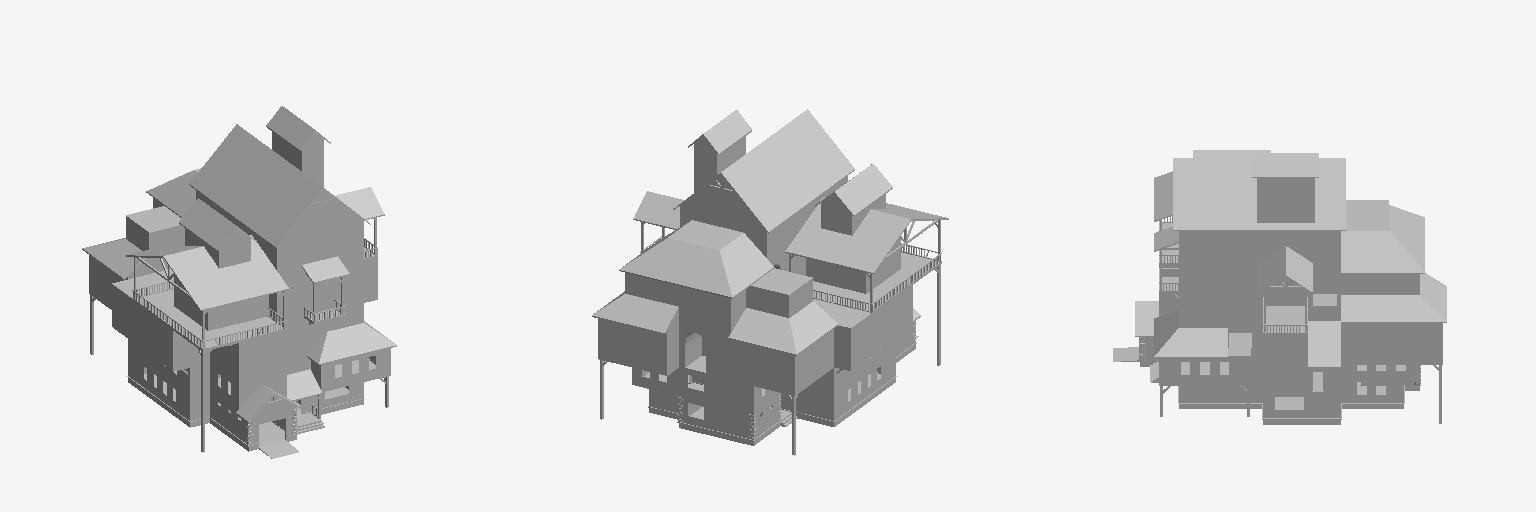
The model's file is Neighbor's House (Alpha 1).obj.
The picture shows the model from 3 angles: view 1: azimuth 30°, elevation 25°; view 2: azimuth 150°, elevation 25°; view 3: azimuth 270°, elevation 25°; orthographic projection.
Parts seen in each view (by area): view 1: floor_3, floor_1, floor_2; view 2: floor_3, floor_1, floor_2; view 3: floor_3, floor_1, floor_2.
Part boxes in pixels (bbox=[...]): floor_3: bbox=[82, 106, 396, 383]; floor_1: bbox=[90, 295, 388, 458]; floor_2: bbox=[128, 339, 390, 421]; floor_3: bbox=[592, 109, 948, 395]; floor_1: bbox=[600, 265, 940, 455]; floor_2: bbox=[632, 308, 920, 413]; floor_3: bbox=[1154, 150, 1446, 376]; floor_1: bbox=[1113, 337, 1441, 424]; floor_2: bbox=[1135, 301, 1419, 392].
Size of the model in its own units: 28 by 28.43 by 34.4.